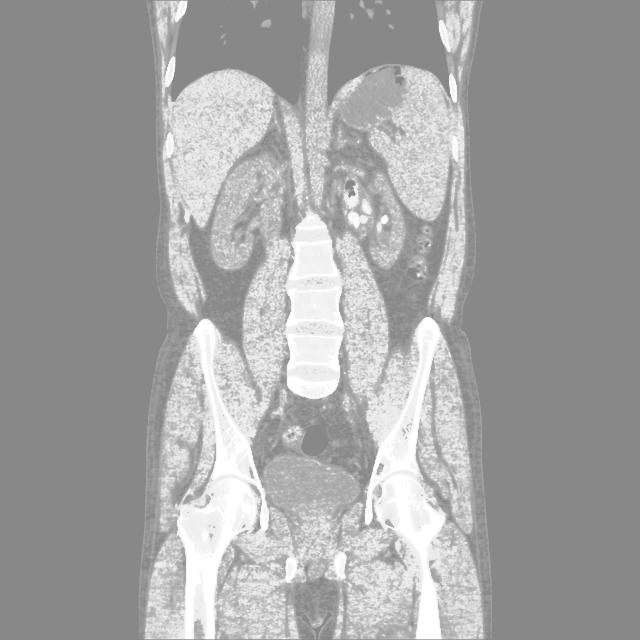STONE: (273, 145, 523, 392)
